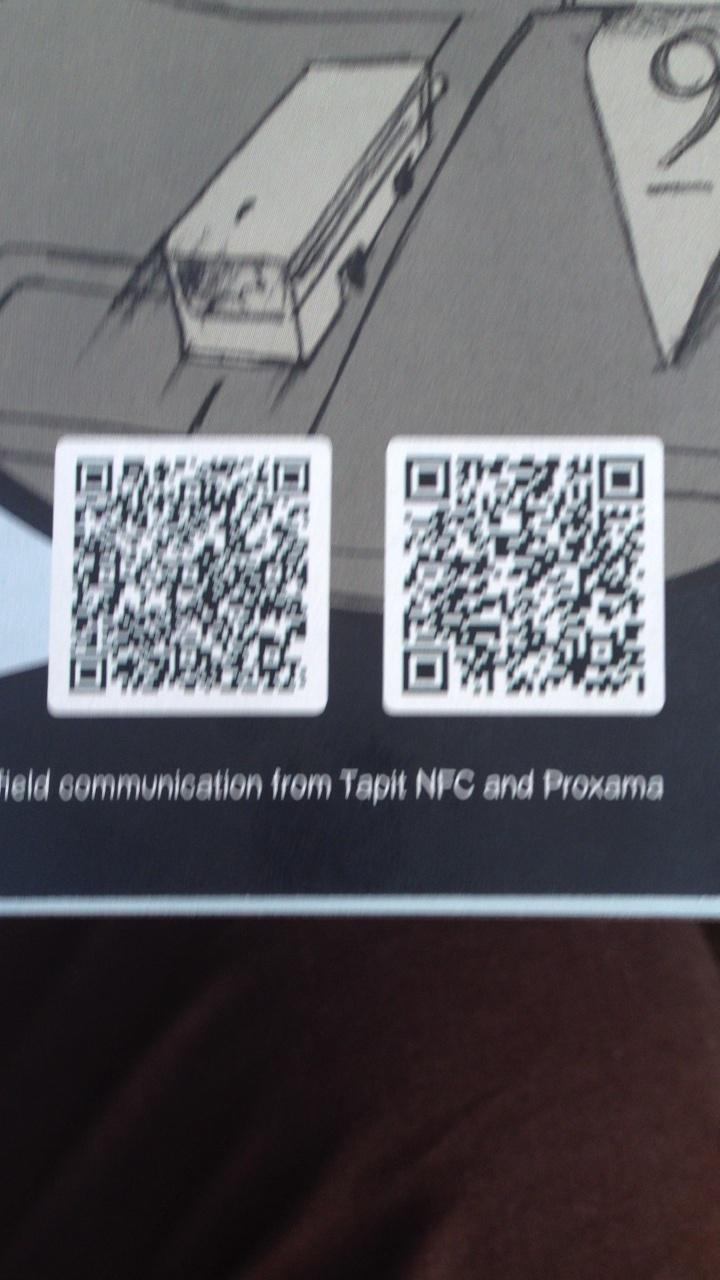Finder pattern: (392, 642, 456, 696), (398, 449, 457, 505), (590, 450, 650, 504), (266, 450, 318, 496), (69, 450, 118, 498), (65, 651, 110, 697)
